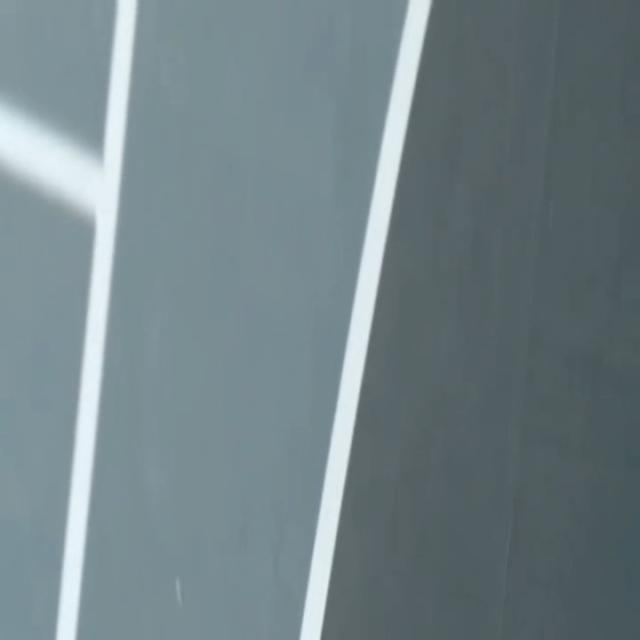left: (300, 0, 431, 639)
